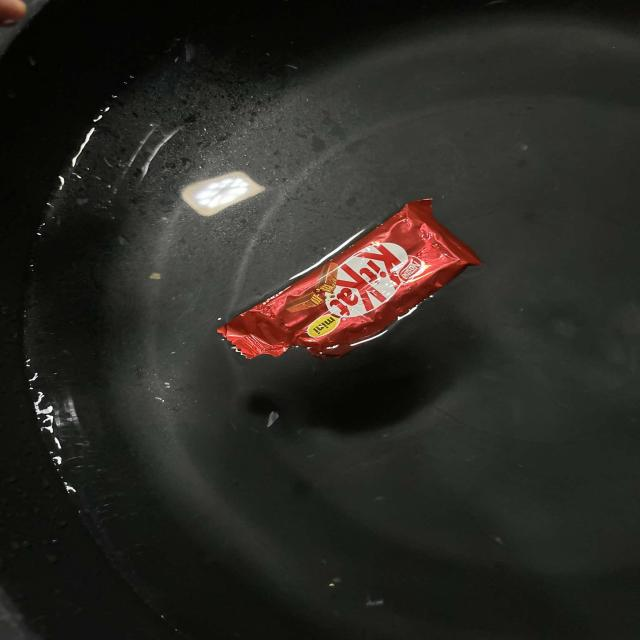Plastic Wrapper: (188, 178, 511, 375)
